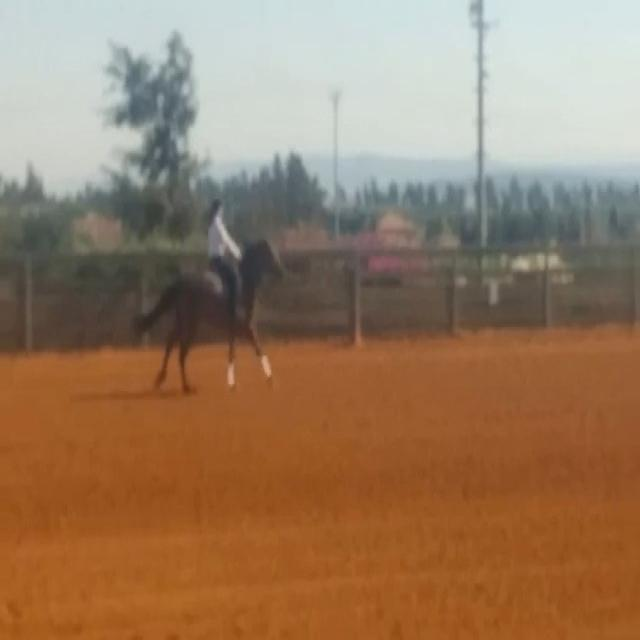horse: (130, 233, 286, 395)
